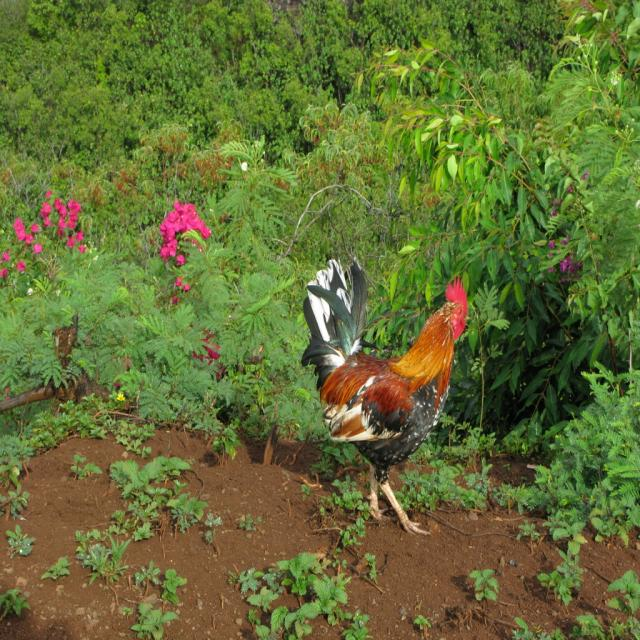Chicken: (302, 254, 465, 532)
